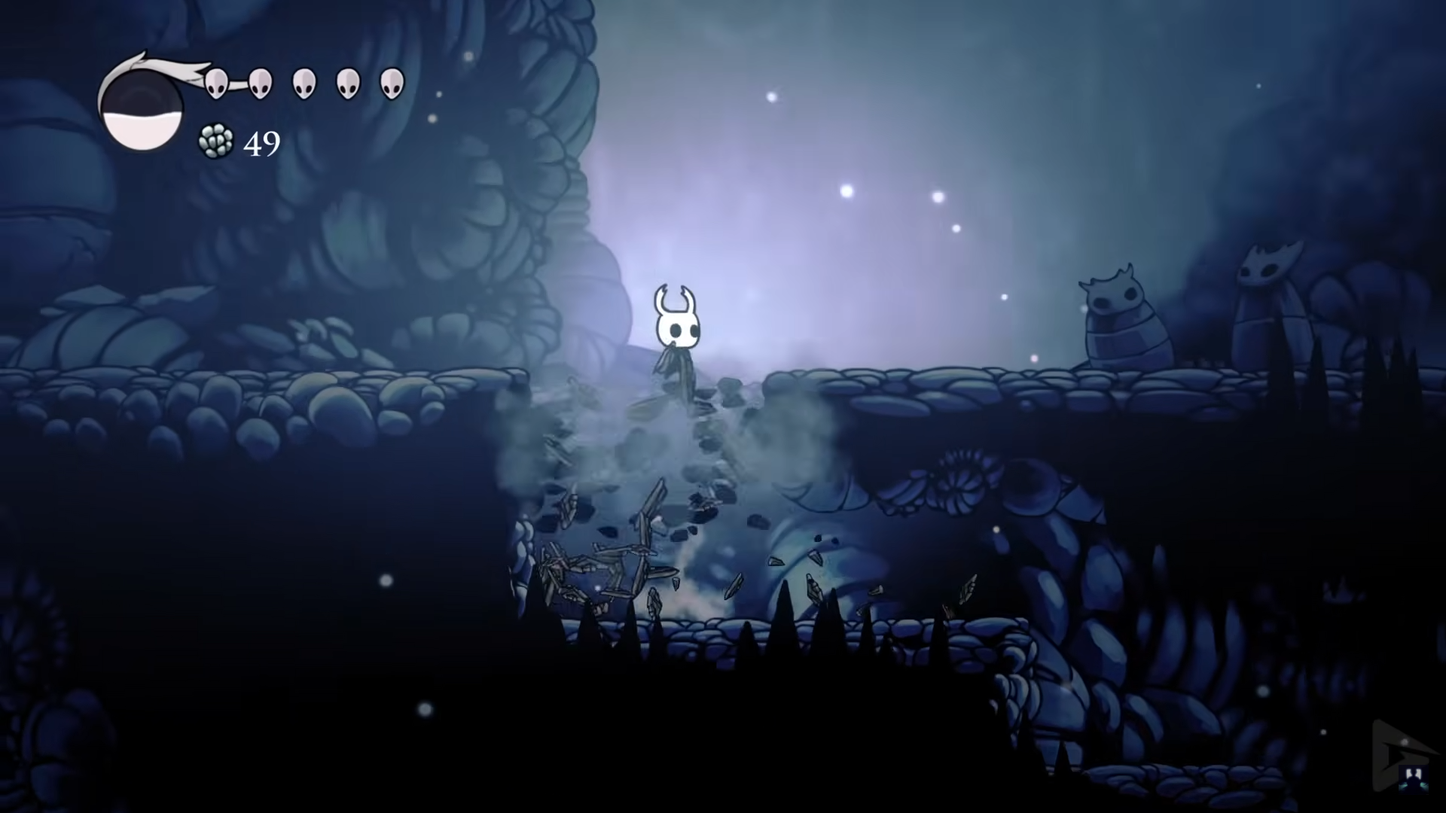HK: (646, 286, 710, 399)
